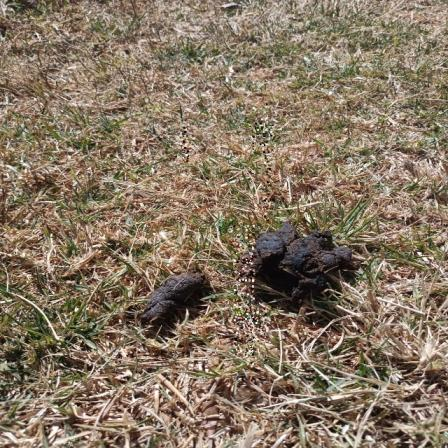dog-poop: (233, 212, 367, 308), (136, 270, 205, 330)
